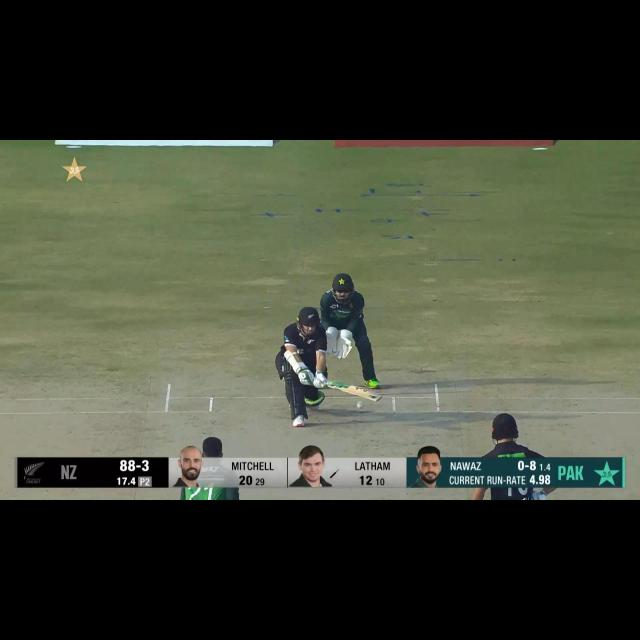bat: (326, 376, 381, 404)
toe: (370, 391, 384, 405)
